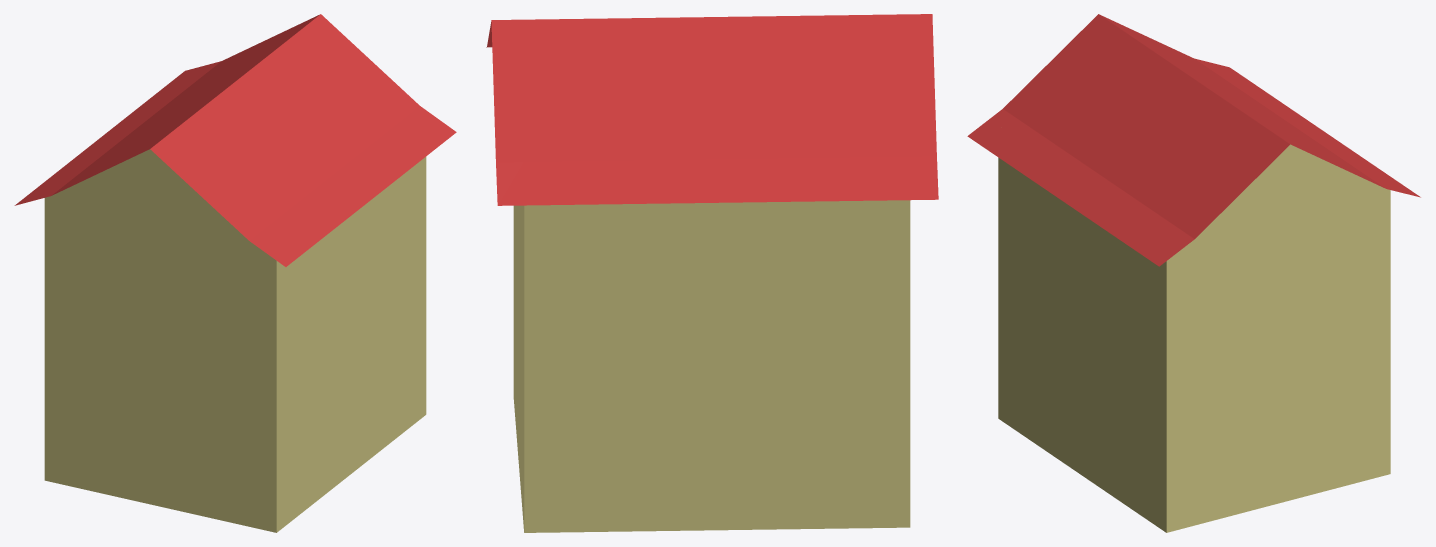
3 renders of one model, left to right at view 1: azimuth 30°, elevation 25°; view 2: azimuth 150°, elevation 25°; view 3: azimuth 270°, elevation 25°, orthographic. The views are drawn at different scales.
Size of the model in its own units: 15.63 by 15.05 by 13.42.
